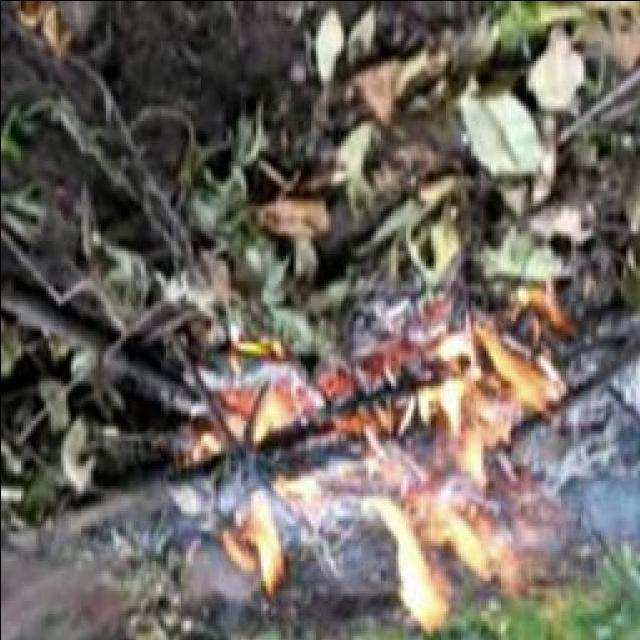Fire: (198, 306, 568, 640)
